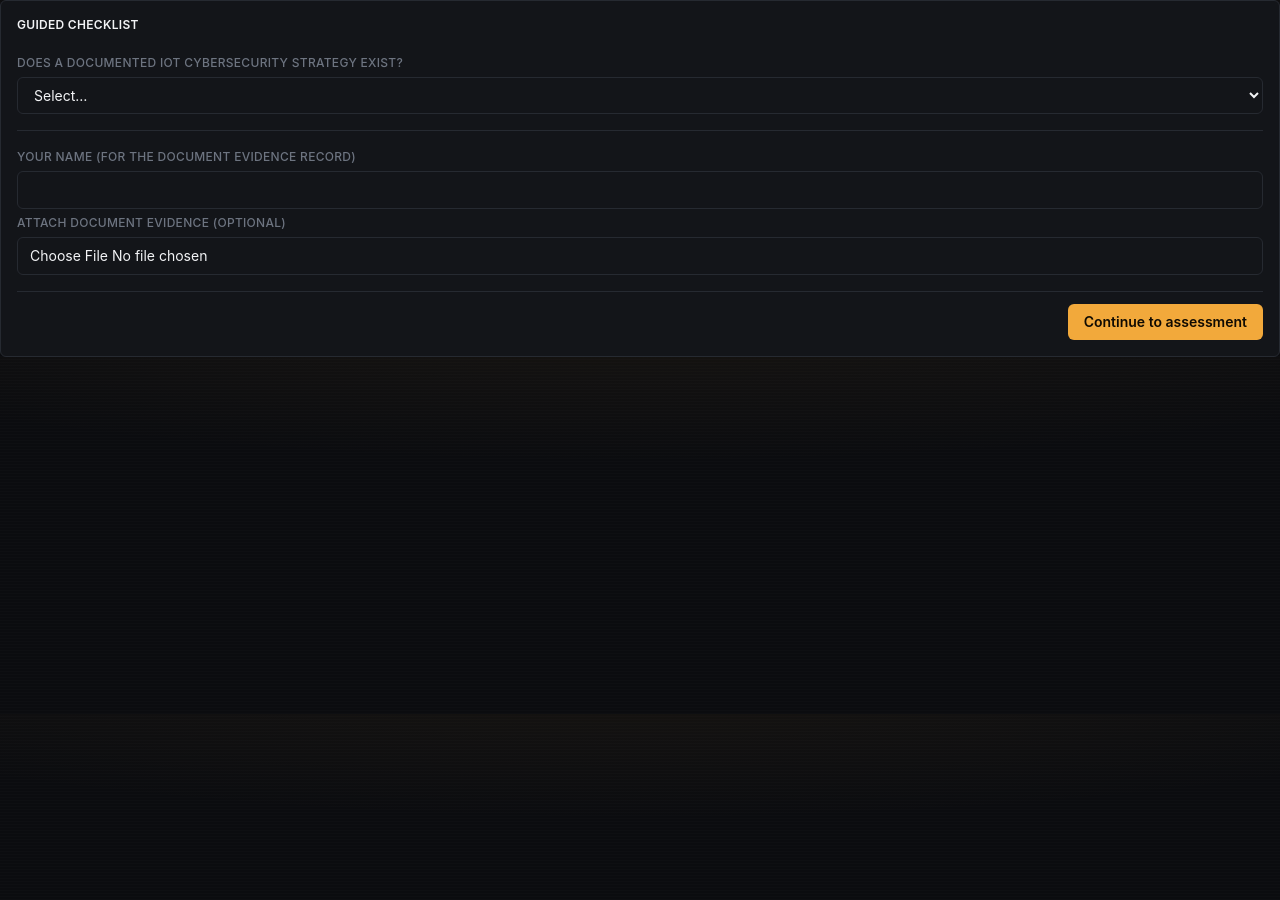
Test: ChecklistAssessmentPanel › renders authored questions and shows a live suggestion as answers change
This screenshot has width=1280, height=900.
Select "Yes" in the dropdown labelled "Does a documented IoT cybersecurity strategy exist?". click: (640, 96)
box: x1=17 y1=77 x2=1263 y2=114
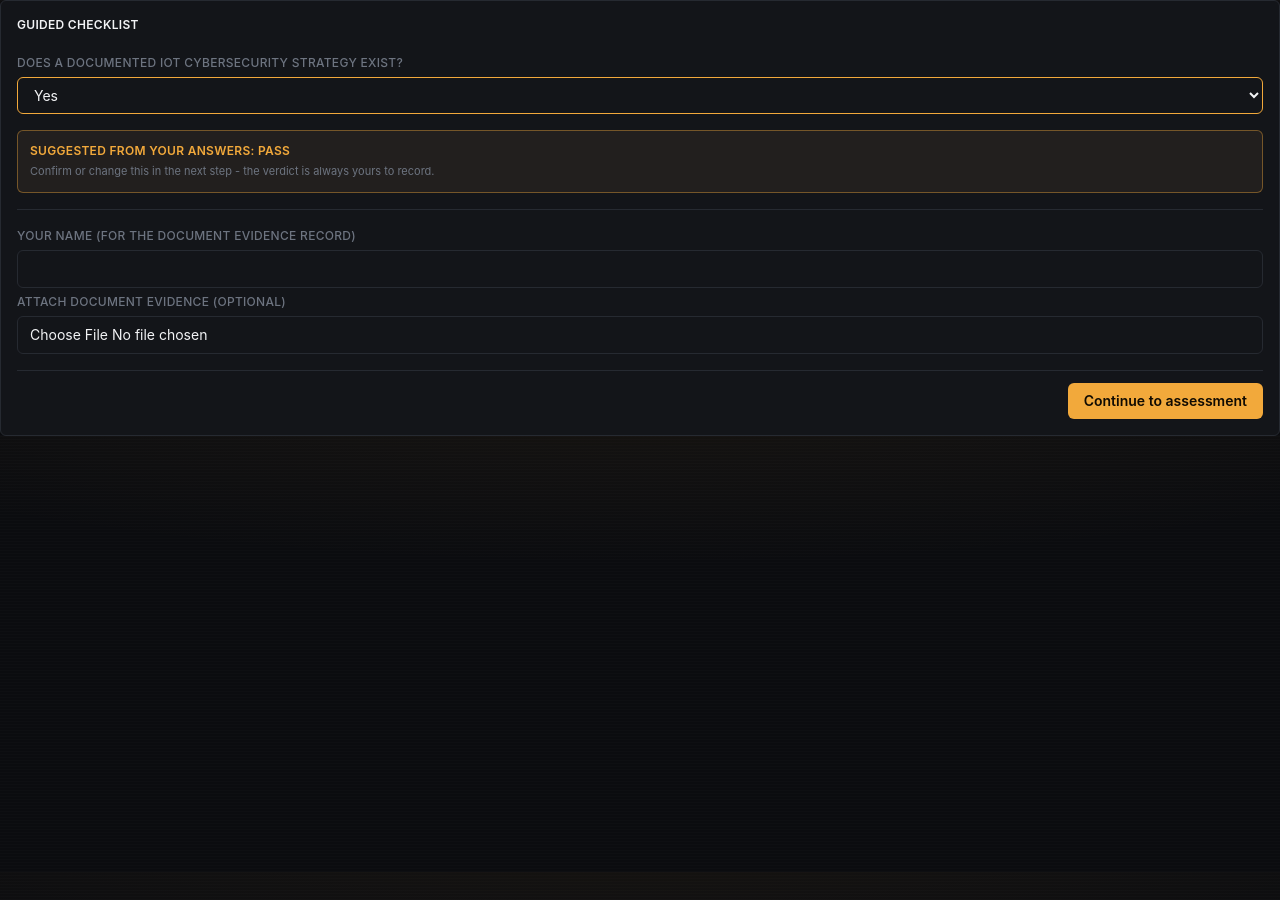
Expected: the text "Suggested from your answers: pass" is shown, x1=30 y1=143 x2=290 y2=158
